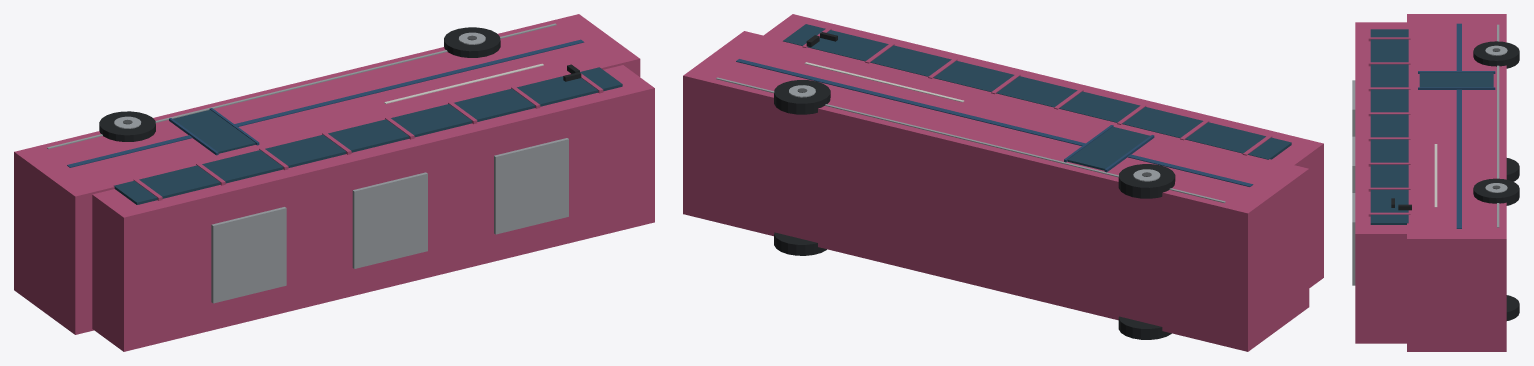
The model's file is RM_Bus_11.glb.
The picture shows the model from 3 angles, left to right: view 1: azimuth 30°, elevation 25°; view 2: azimuth 150°, elevation 25°; view 3: azimuth 270°, elevation 25°; orthographic projection. The views are drawn at different scales.
Parts seen in each view (by area): view 1: part_001, part_000, part_002, part_038, part_037, part_039, part_013, part_040, part_030, part_024, part_014; view 2: part_000, part_002, part_001, part_013, part_040, part_024, part_030, part_014, part_021, part_027; view 3: part_000, part_001, part_002, part_040, part_013, part_024, part_030, part_014, part_039, part_027, part_021, part_043 (+6 smaller).
Part boxes in pixels (x1,y1,x2,y2): part_001: [92, 65, 654, 351]; part_000: [14, 14, 640, 334]; part_002: [114, 67, 622, 204]; part_038: [352, 172, 427, 268]; part_037: [211, 207, 286, 303]; part_039: [494, 138, 568, 234]; part_013: [67, 39, 584, 167]; part_040: [173, 110, 255, 153]; part_030: [444, 27, 500, 57]; part_024: [99, 111, 155, 141]; part_014: [47, 23, 556, 149]; part_000: [683, 31, 1309, 351]; part_002: [783, 24, 1291, 159]; part_001: [763, 14, 1323, 287]; part_013: [736, 59, 1253, 186]; part_040: [1067, 126, 1150, 170]; part_024: [1118, 164, 1175, 198]; part_030: [774, 80, 830, 114]; part_014: [716, 77, 1225, 203]; part_021: [1118, 316, 1171, 339]; part_027: [774, 232, 826, 255]; part_000: [1407, 14, 1506, 351]; part_001: [1355, 22, 1406, 343]; part_002: [1370, 29, 1408, 224]; part_040: [1419, 72, 1493, 87]; part_013: [1456, 23, 1461, 228]; part_024: [1473, 41, 1519, 68]; part_030: [1473, 178, 1519, 205]; part_014: [1497, 24, 1499, 227]; part_039: [1352, 193, 1355, 285]; part_027: [1506, 295, 1519, 320]; part_021: [1506, 158, 1519, 181]; part_043: [1434, 144, 1437, 207].
Size of the model in its own units: 10.8 by 2.85 by 3.4.
